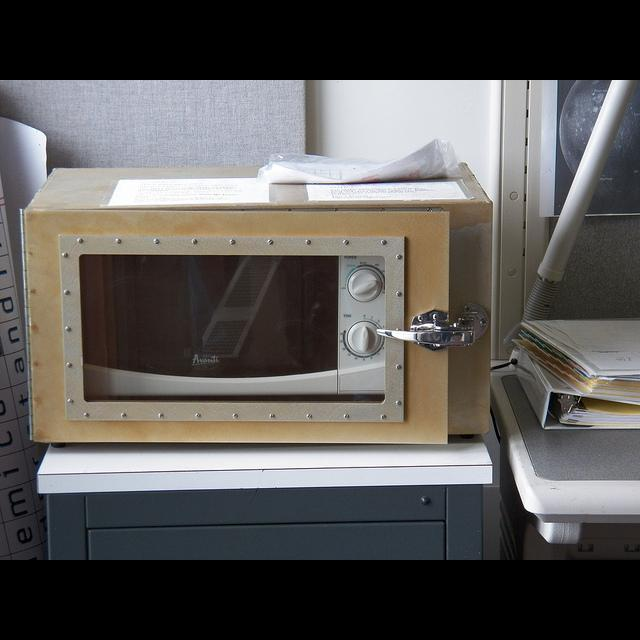Microwave: (23, 144, 502, 445)
